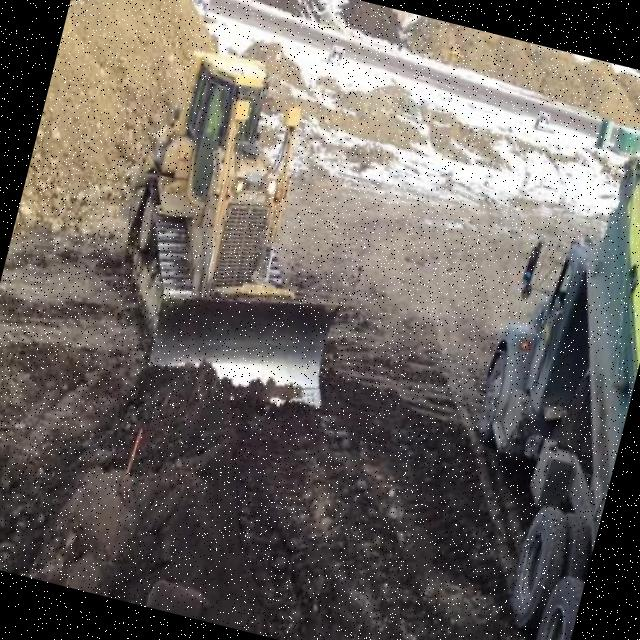Bulldozer: (80, 34, 400, 427)
Dump Truck: (409, 119, 640, 640)
